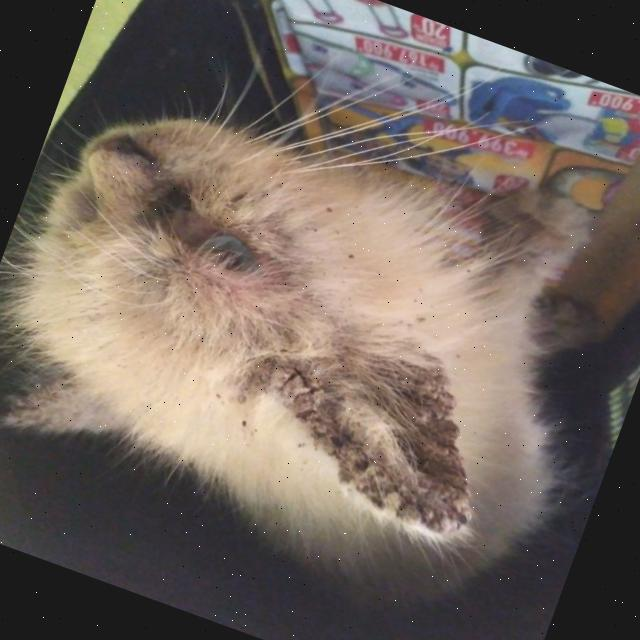cat-scabies: (266, 336, 488, 533)
